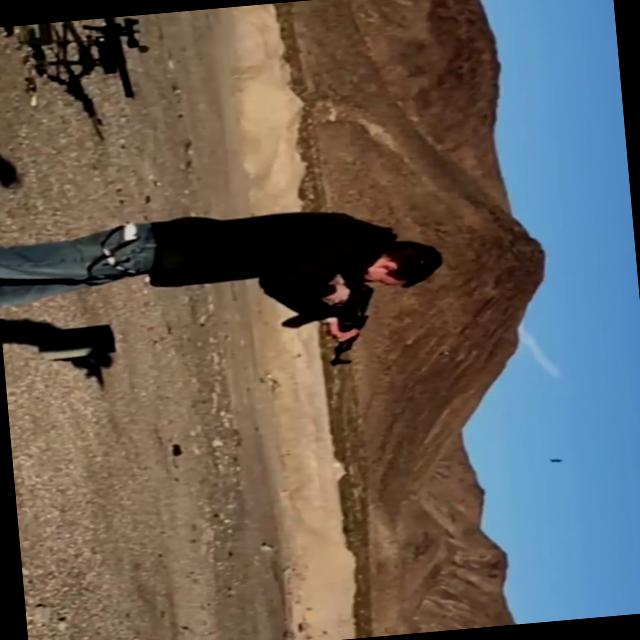long weapon: (274, 255, 394, 384)
